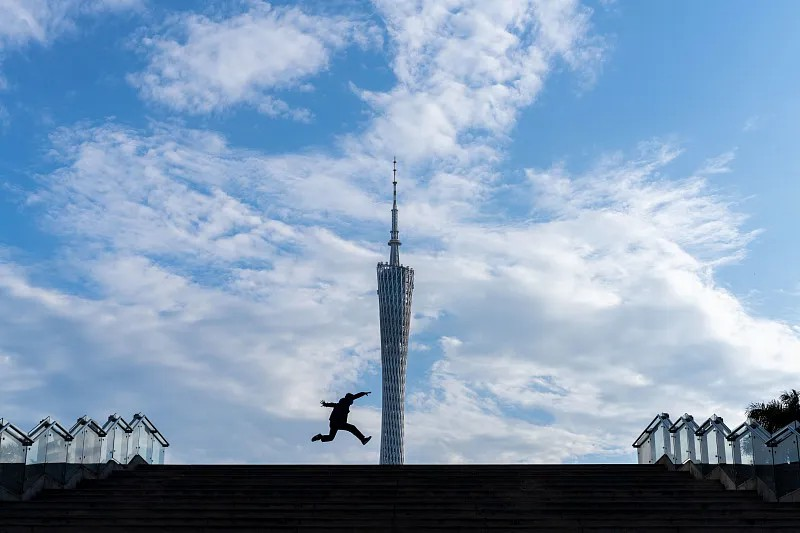Canton: (375, 153, 414, 465)
